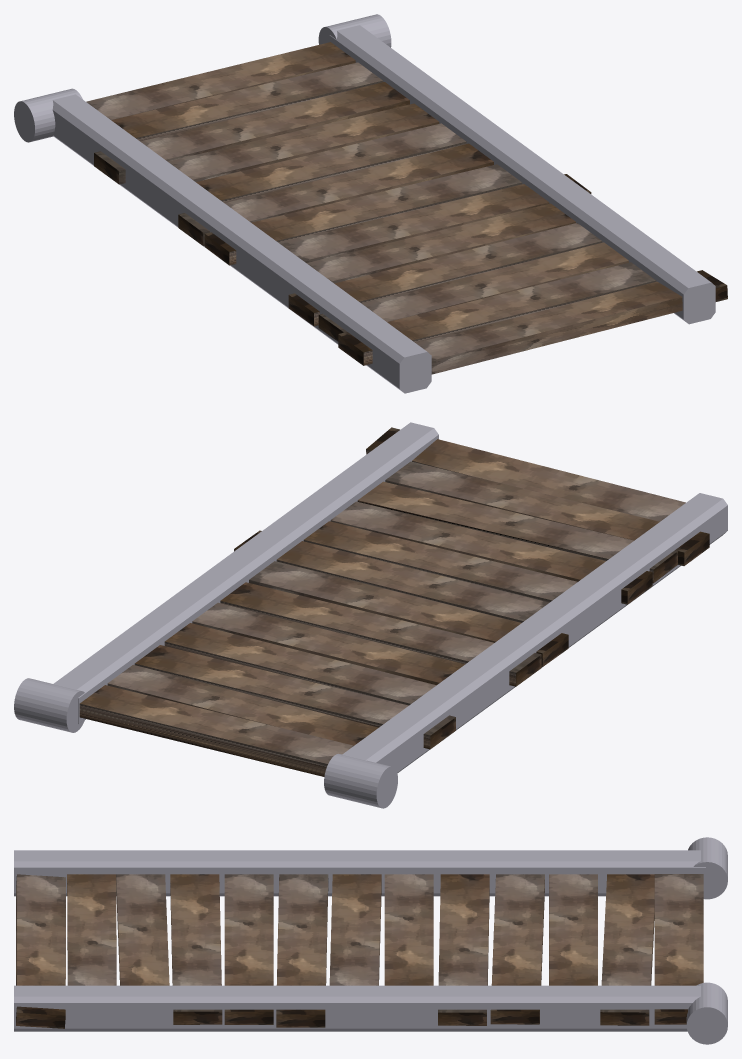
File: vertical_bridge.fbx
The picture shows the model from 3 angles, top to bottom: view 1: azimuth 30°, elevation 25°; view 2: azimuth 150°, elevation 25°; view 3: azimuth 270°, elevation 25°; orthographic projection. The views are drawn at different scales.
Parts seen in each view (by area): view 1: Cube.002, Cube.001, Cube.003, Cube.013, Cube.004, Cube.009, Cube.010, Cube.006, Cube.011, Cube.014, Cube.005, Cube.012 (+5 smaller); view 2: Cube.002, Cube.001, Cube.015, Cube.013, Cube.010, Cube.009, Cube.006, Cube.005, Cube.004, Cube.003, Cube.012, Cube.011 (+5 smaller); view 3: Cube.001, Cube.002, Cube.008, Cube.003, Cube.014, Cube.011, Cube.012, Cube.007, Cube.006, Cube.015, Cube.005, Cube.009 (+5 smaller).
Boxes of the visible parts, <box> form: Cube.002: <box>52,94,431,393</box>; Cube.001: <box>329,25,715,324</box>; Cube.003: <box>416,270,727,374</box>; Cube.013: <box>94,82,409,184</box>; Cube.004: <box>338,262,656,365</box>; Cube.009: <box>204,164,522,265</box>; Cube.010: <box>178,143,493,246</box>; Cube.006: <box>288,223,602,326</box>; Cube.011: <box>196,123,466,202</box>; Cube.014: <box>111,62,383,141</box>; Cube.005: <box>318,242,628,341</box>; Cube.012: <box>167,103,439,181</box>; Cube.002: <box>342,493,727,773</box>; Cube.001: <box>53,422,438,723</box>; Cube.015: <box>79,685,353,776</box>; Cube.013: <box>134,645,455,749</box>; Cube.010: <box>220,582,541,686</box>; Cube.009: <box>249,561,568,666</box>; Cube.006: <box>330,501,652,604</box>; Cube.005: <box>357,481,677,583</box>; Cube.004: <box>385,461,709,565</box>; Cube.003: <box>366,427,685,521</box>; Cube.012: <box>164,623,436,705</box>; Cube.011: <box>192,602,464,685</box>; Cube.001: <box>14,985,700,1031</box>; Cube.002: <box>14,850,705,896</box>; Cube.008: <box>276,874,328,1027</box>; Cube.003: <box>16,874,65,1028</box>; Cube.014: <box>600,874,654,1025</box>; Cube.011: <box>438,874,489,1025</box>; Cube.012: <box>490,874,544,1024</box>; Cube.007: <box>224,874,273,1024</box>; Cube.006: <box>170,874,222,1024</box>; Cube.015: <box>654,874,703,1024</box>; Cube.005: <box>116,874,169,985</box>; Cube.009: <box>329,874,381,985</box>.
Size of the model in its own units: 428 by 44 by 761.
Materials: 2 (1 with a texture image).
